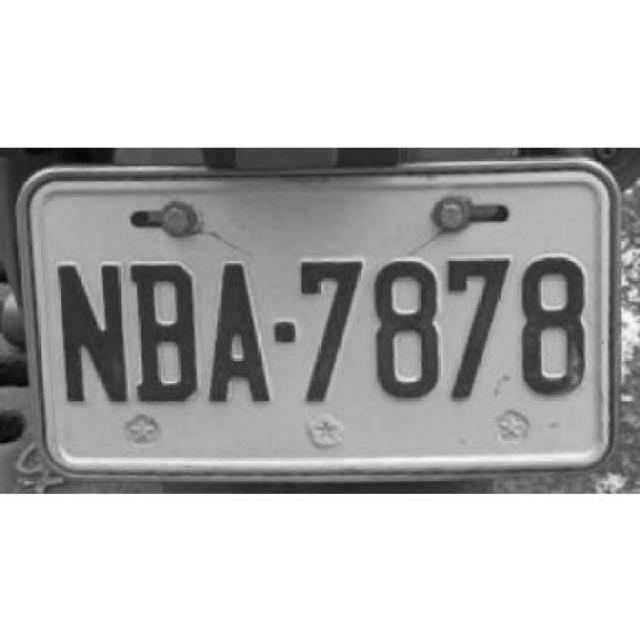-: (274, 318, 295, 340)
7: (441, 249, 514, 400), (296, 254, 364, 401)
8: (366, 251, 445, 403), (514, 246, 589, 403)
A: (205, 257, 272, 401)
B: (131, 260, 200, 398)
N: (54, 260, 128, 402)
